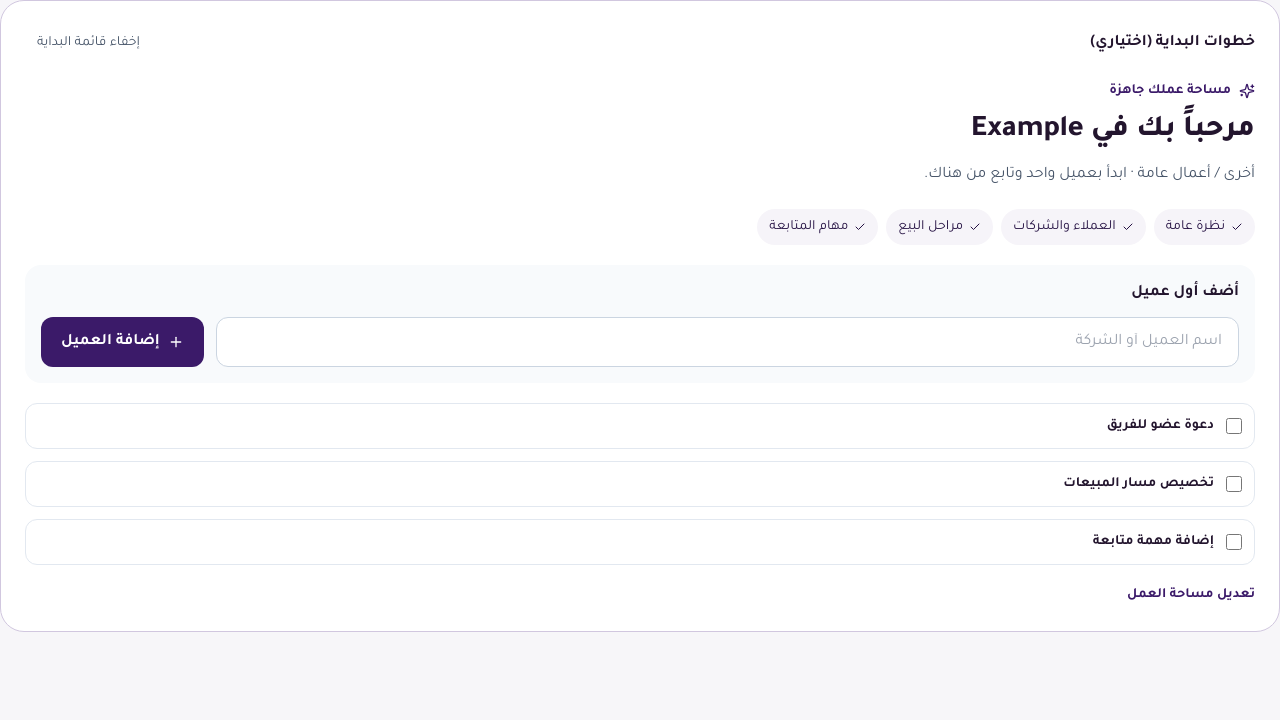
it: Optional getting-started checklist › retains the checklist after a failed dismiss and renders Arabic RTL
The width and height of the screenshot is (1280, 720).
Step 1. Click the button "إخفاء قائمة البداية" → (88, 43), box top-left (25, 25), bottom-right (152, 61)
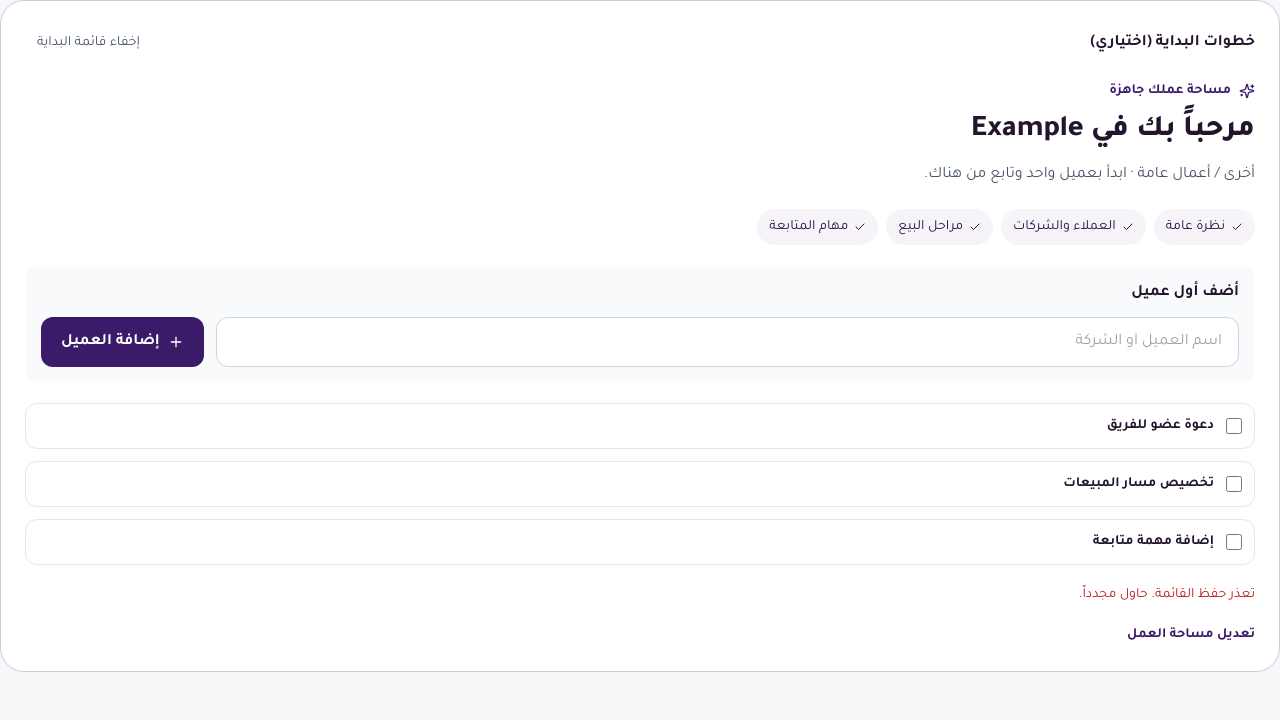
Expected: the message "تعذر حفظ القائمة. حاول مجدداً." is shown, top-left (1079, 588), bottom-right (1255, 602)
